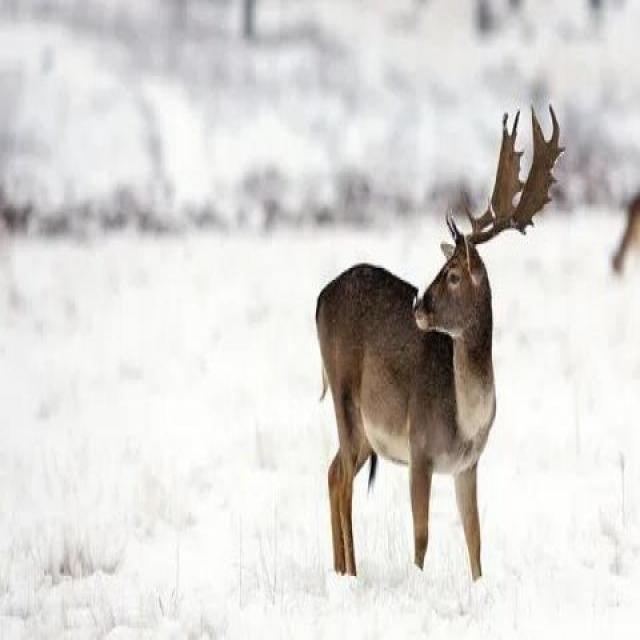deer: (292, 44, 575, 568)
